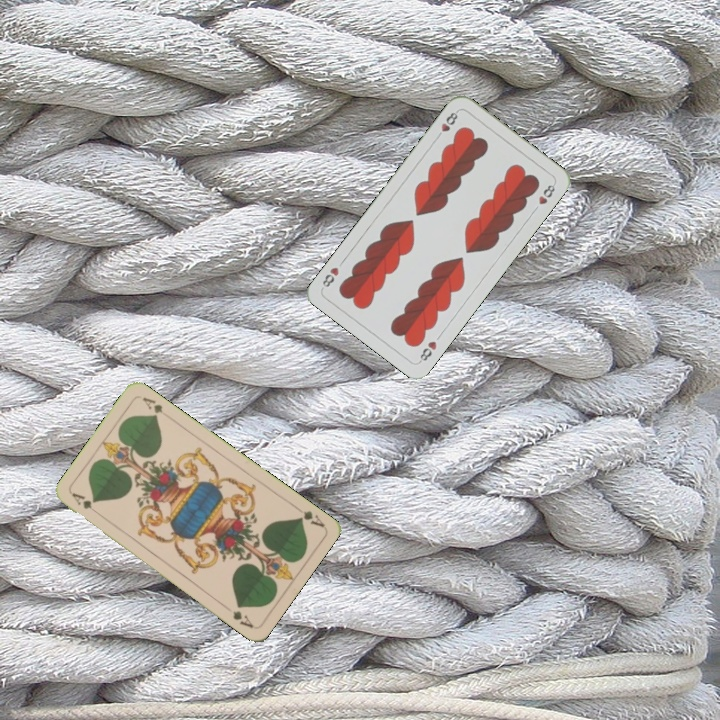GA: (68, 489, 102, 518), (291, 503, 327, 530)
H8: (432, 107, 461, 142), (415, 337, 439, 365)
